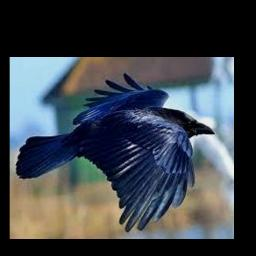Crow: (15, 73, 215, 233)
